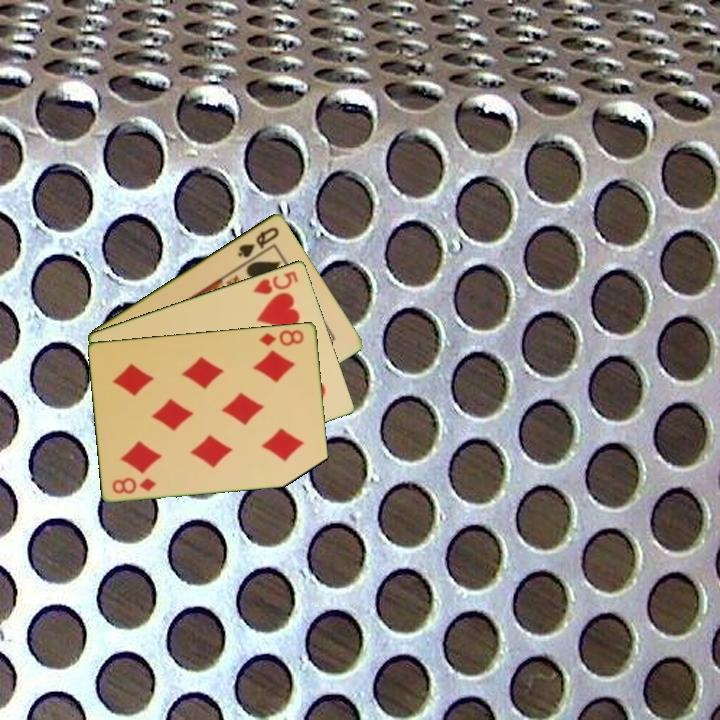5h: (250, 267, 301, 297)
8d: (256, 326, 307, 349), (109, 474, 159, 496)
Qs: (234, 223, 282, 260)
